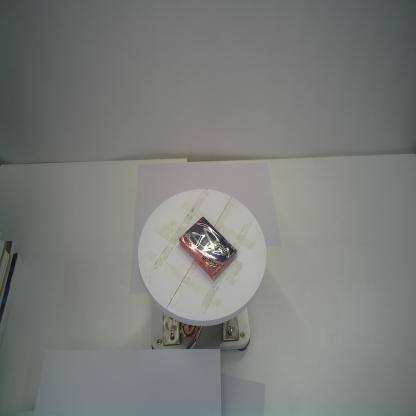Gum: (179, 216, 237, 281)
